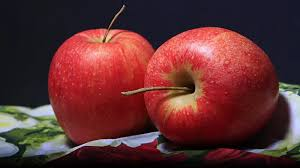apel: (142, 27, 282, 147), (44, 26, 165, 147)
